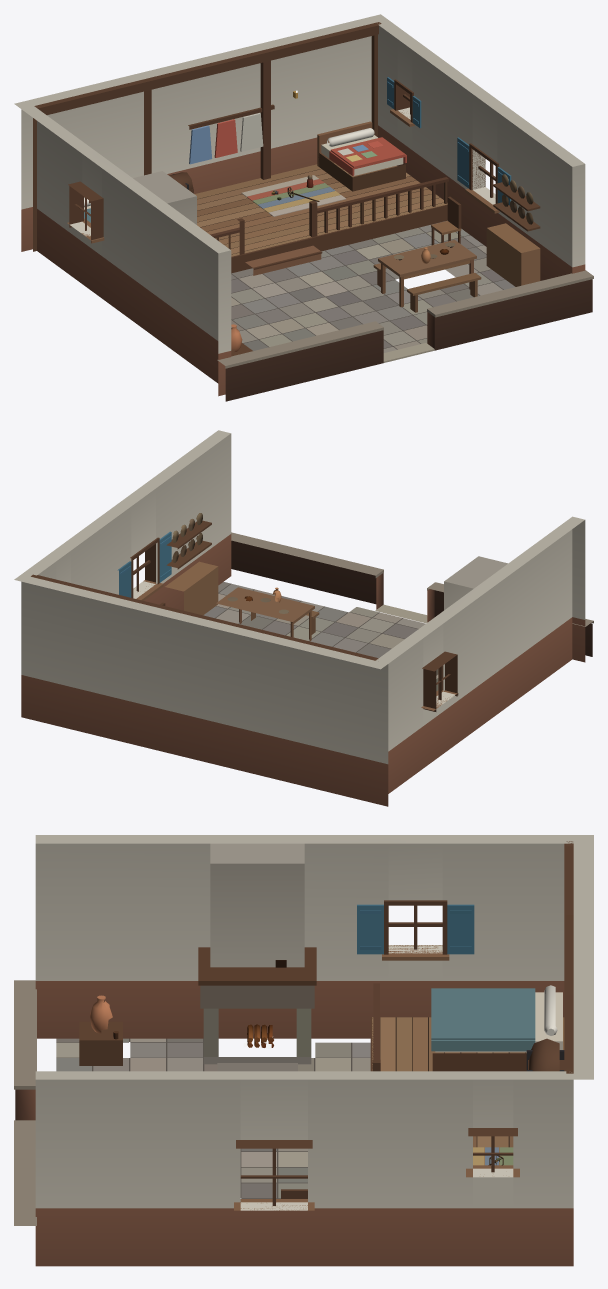
Rendered from int_vivienda.glb.
3 views of the same model, one above another, from view 1: azimuth 30°, elevation 25°; view 2: azimuth 150°, elevation 25°; view 3: azimuth 270°, elevation 25° (orthographic). The views are drawn at different scales.
Parts seen in each view (by area): view 1: fijo, piezas; view 2: fijo, piezas; view 3: fijo, piezas.
Boxes of the visible parts, x1=… form: fijo: x1=14, y1=14, x2=593, y2=401; piezas: x1=271, y1=174, x2=533, y2=260; fijo: x1=14, y1=430, x2=593, y2=806; piezas: x1=172, y1=513, x2=288, y2=613; fijo: x1=14, y1=835, x2=593, y2=1266; piezas: x1=113, y1=960, x2=503, y2=1165.
Bounding box in the file's own units: 8.64 × 3.2 × 8.62.
